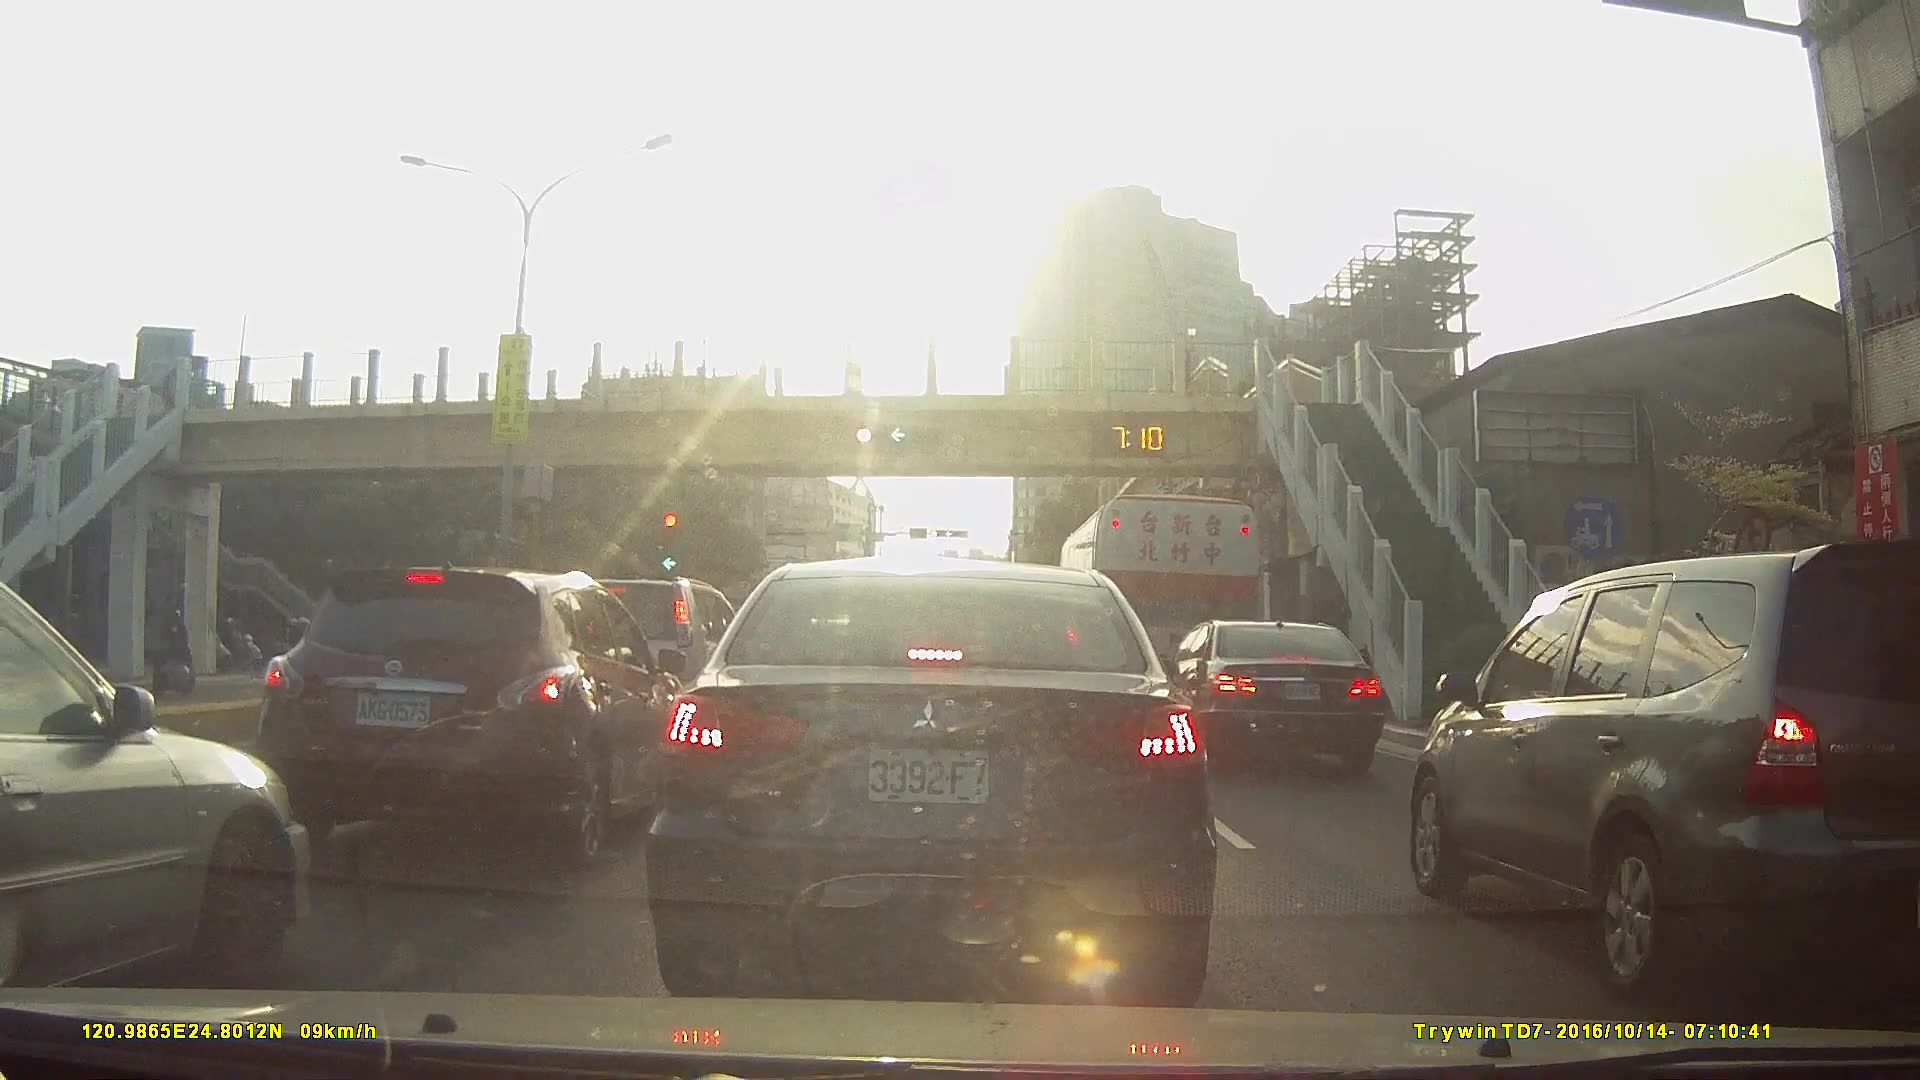pedestrian: (1169, 340, 1197, 396)
rider: (153, 603, 201, 692), (209, 613, 267, 669)
vehicle: (643, 552, 1218, 1004), (1406, 536, 1920, 995), (253, 557, 694, 868), (0, 572, 314, 1004), (1056, 486, 1263, 729), (1153, 614, 1387, 771)
